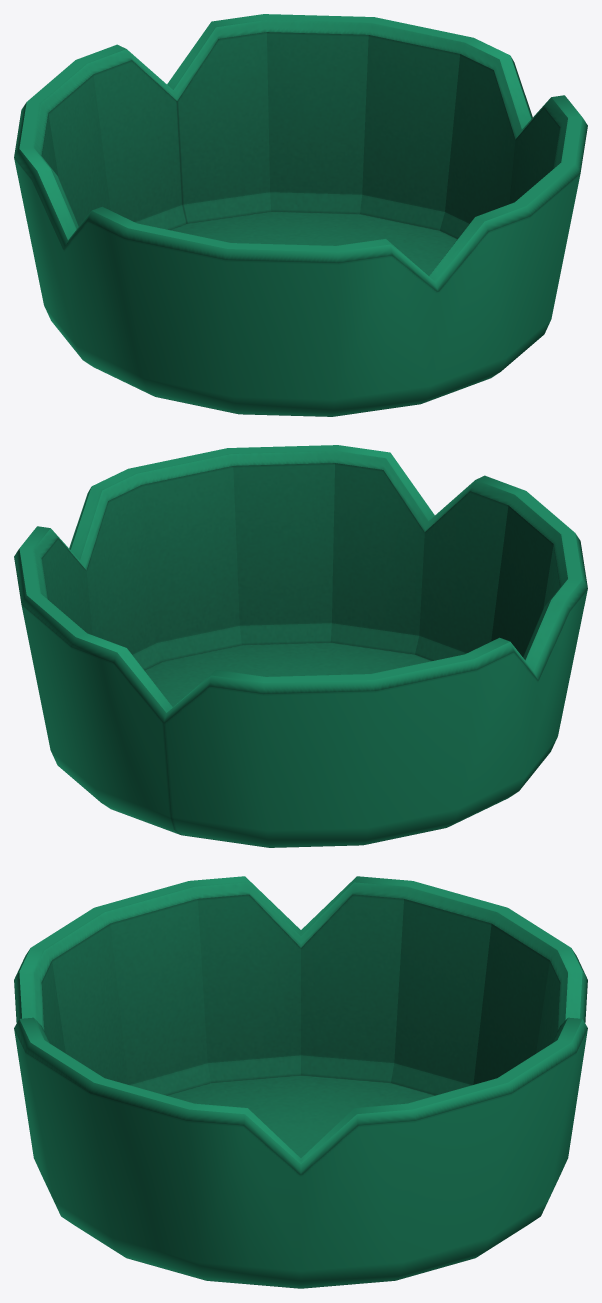
Rendered from deb_ashtray.fbx.
The picture shows the model from 3 angles, top to bottom: view 1: azimuth 30°, elevation 25°; view 2: azimuth 150°, elevation 25°; view 3: azimuth 270°, elevation 25°; orthographic projection. The views are drawn at different scales.
Parts seen in each view (by area): view 1: ashtry; view 2: ashtry; view 3: ashtry.
Boxes of the visible parts, x1,y1,x2,y2 form: ashtry: [14, 14, 587, 416]; ashtry: [14, 445, 587, 847]; ashtry: [14, 876, 587, 1288].
Bounding box in the file's own units: 5.77 × 2.1 × 5.77.
Materials: 1 (1 with a texture image).
